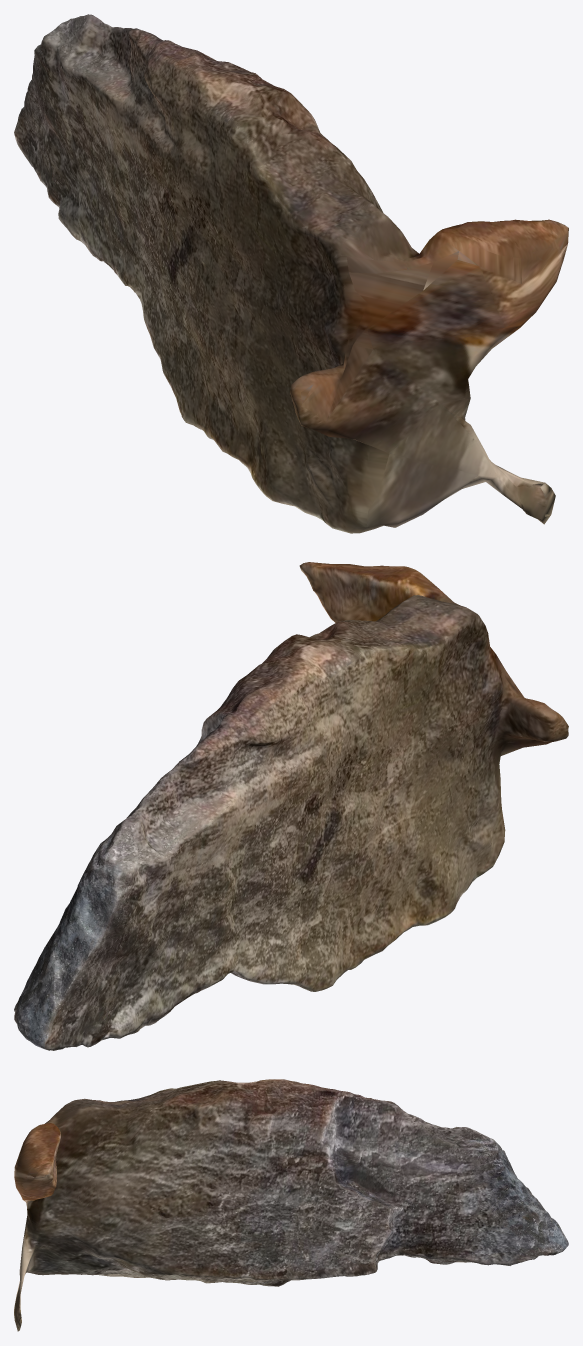
The model's file is VM Malo Cx-620 OB9 1820 Terraspec 1.glb.
3 views of the same model, one above another, from view 1: azimuth 30°, elevation 25°; view 2: azimuth 150°, elevation 25°; view 3: azimuth 270°, elevation 25° (orthographic). The views are drawn at different scales.
Visible parts, largest first — view 1: baked_mesh; view 2: baked_mesh; view 3: baked_mesh.
Boxes of the visible parts, x1=… form: baked_mesh: x1=14, y1=14, x2=568, y2=533; baked_mesh: x1=14, y1=562, x2=568, y2=1050; baked_mesh: x1=14, y1=1079, x2=568, y2=1331.
Size of the model in its own units: 0.2556 by 0.2976 by 0.6969.
Materials: 1 (1 with a texture image).
